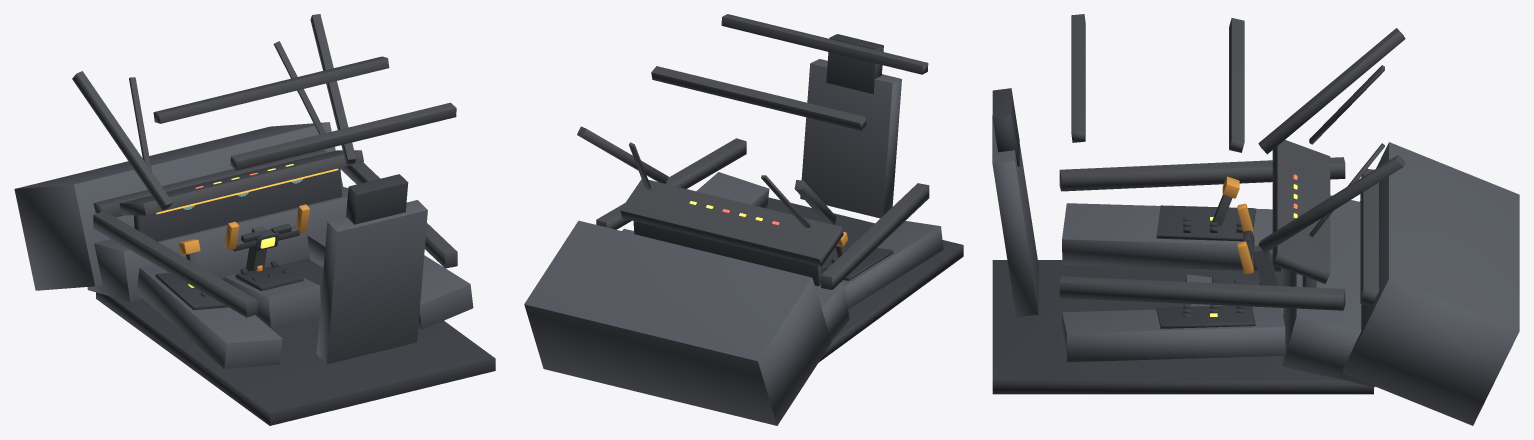
The model's file is cockpit.glb.
3 views of the same model, side by side, from view 1: azimuth 30°, elevation 25°; view 2: azimuth 150°, elevation 25°; view 3: azimuth 270°, elevation 25° (orthographic). The views are drawn at different scales.
Parts seen in each view (by area): view 1: Cockpit, YokeWheel, Yoke; view 2: Cockpit; view 3: Cockpit, YokeWheel, Yoke, Throttle.
Part boxes in pixels (box(x1,y1,x2,y2)): Cockpit: box(14, 14, 495, 425); YokeWheel: box(224, 204, 309, 251); Yoke: box(246, 226, 266, 271); Cockpit: box(524, 14, 963, 425); Cockpit: box(992, 14, 1519, 425); YokeWheel: box(1237, 203, 1256, 274); Yoke: box(1254, 246, 1278, 285); Throttle: box(1212, 176, 1239, 225).
Bounding box in the file's own units: 1.72 × 1.65 × 2.77.
